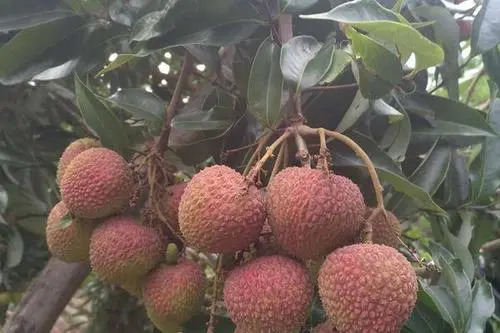litchi: (189, 161, 414, 330), (53, 153, 198, 325)
stem: (146, 49, 193, 160), (275, 1, 308, 140)
